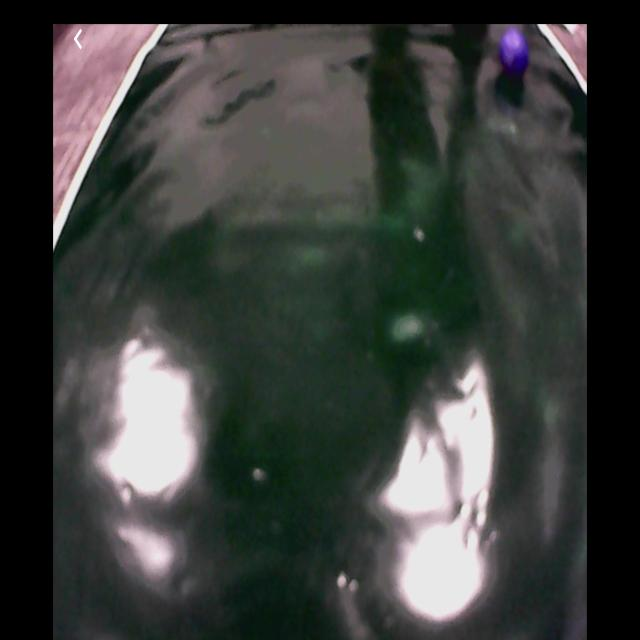ball: (500, 29, 527, 72)
